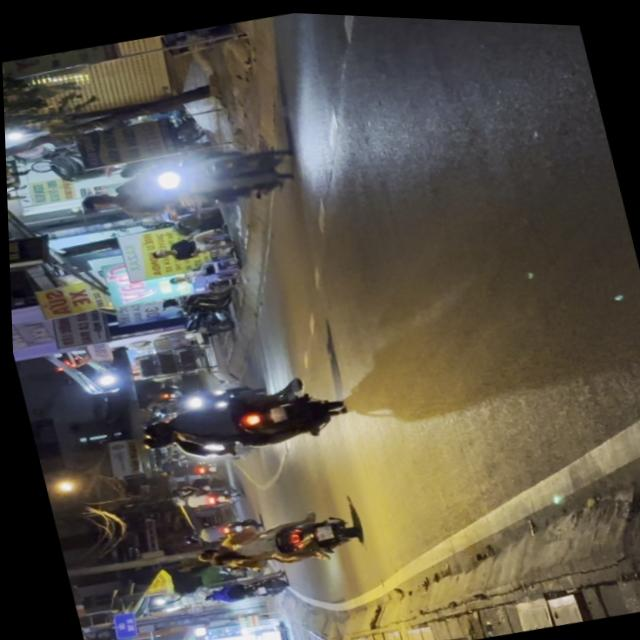licenseplate: (70, 126, 301, 241)
motorcyclist: (77, 186, 117, 212)
